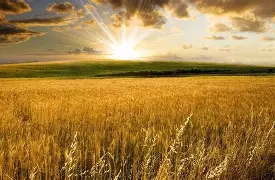crops: (0, 73, 271, 176), (0, 58, 271, 78), (196, 79, 275, 113)
